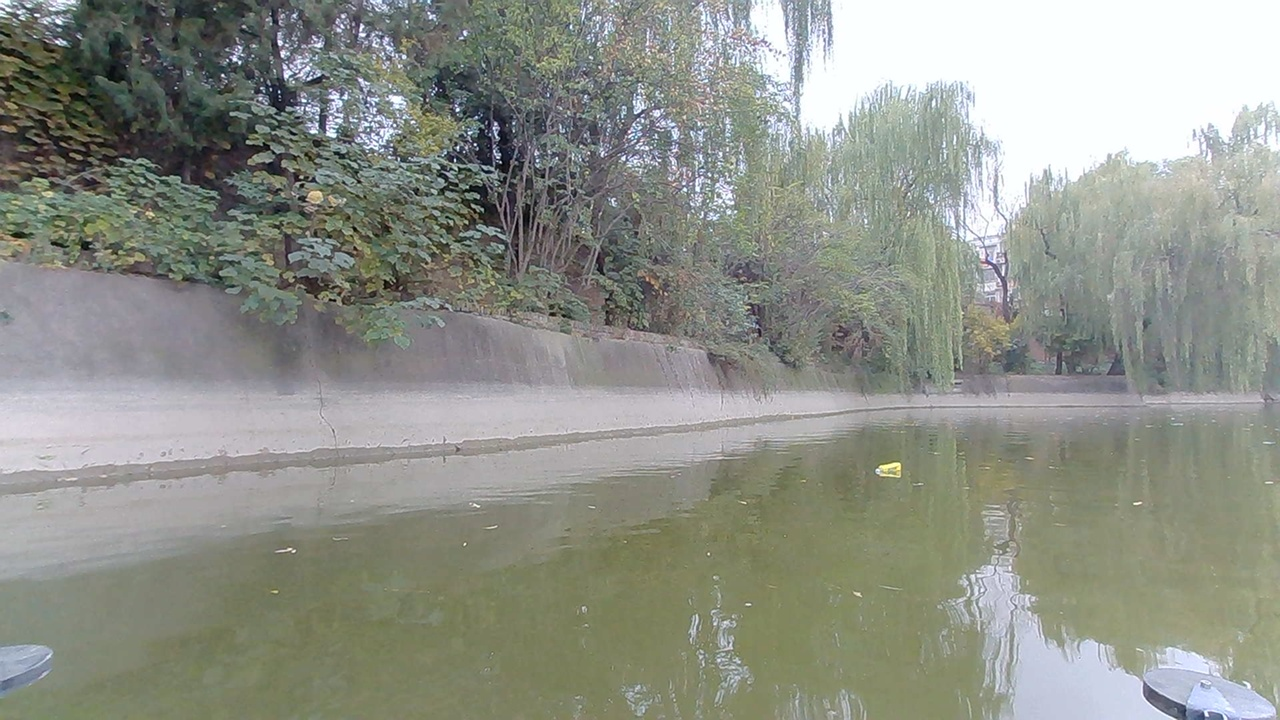bottle: (876, 458, 910, 481)
